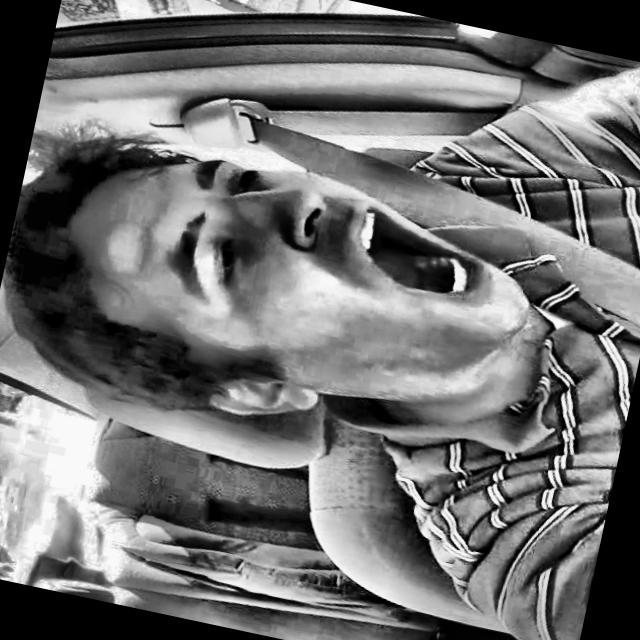closed_eyes: (192, 214, 256, 302), (214, 152, 274, 208)
open_mouth: (334, 184, 510, 325)
